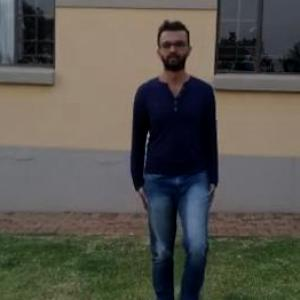follow: (132, 14, 223, 299)
